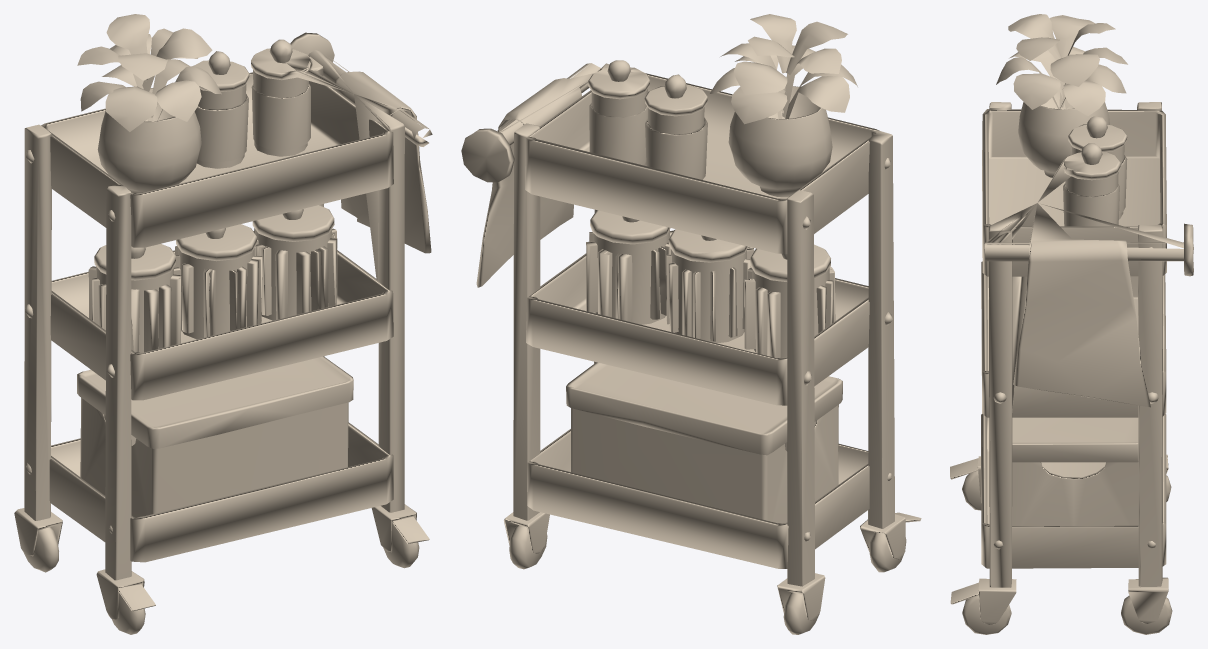
Rendered from kitchen-4-geometry.glb.
3 views of the same model, side by side, from view 1: azimuth 30°, elevation 25°; view 2: azimuth 150°, elevation 25°; view 3: azimuth 270°, elevation 25° (orthographic). The views are drawn at different scales.
Size of the model in its own units: 0.6406 by 1 by 0.4316.
